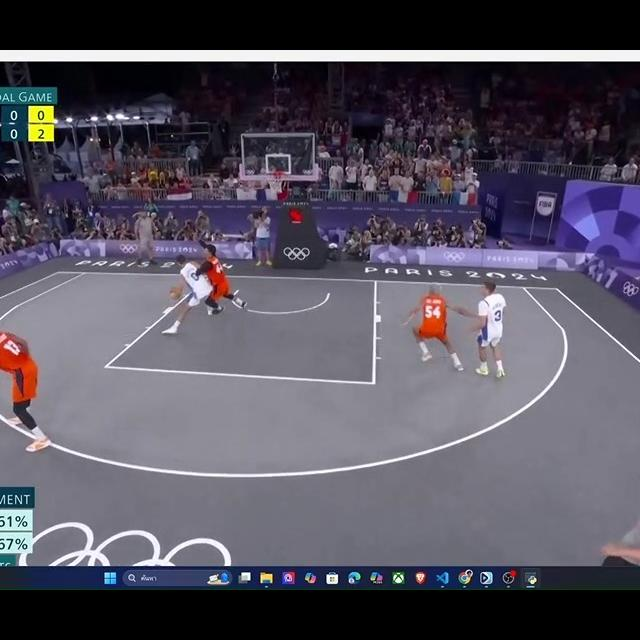basketball: (168, 288, 181, 300)
hoop: (265, 169, 285, 194)
